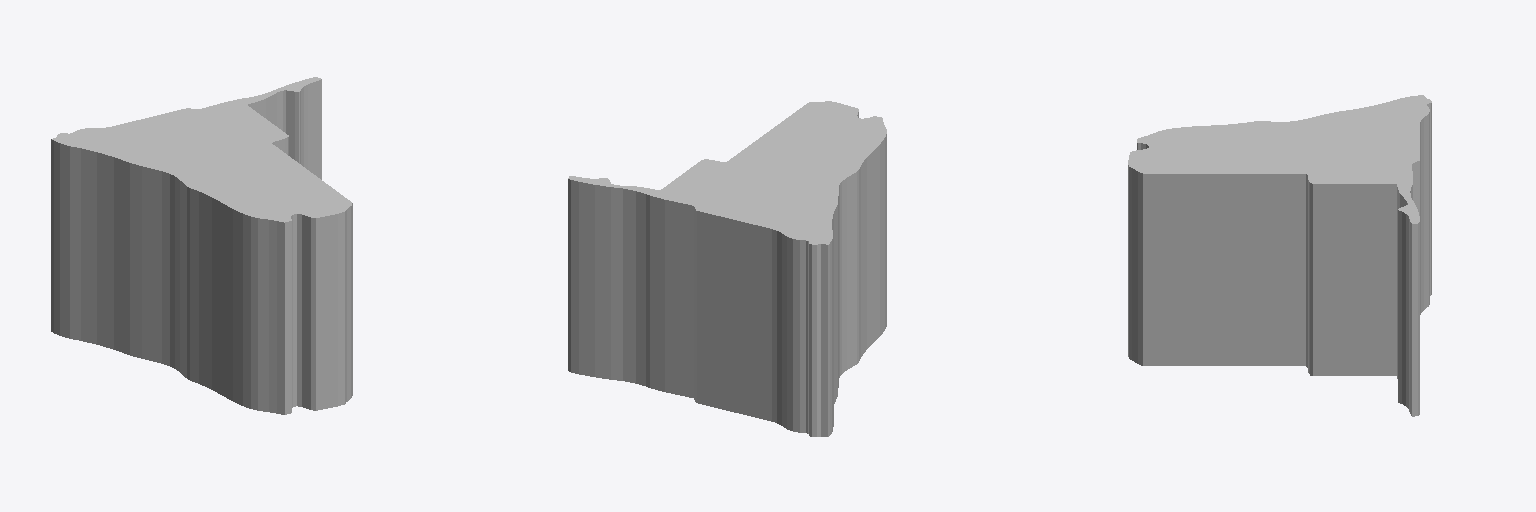
The picture shows the model from 3 angles: view 1: azimuth 30°, elevation 25°; view 2: azimuth 150°, elevation 25°; view 3: azimuth 270°, elevation 25°; orthographic projection.
Parts seen in each view (by area): view 1: NA.002_CUCurve.1884; view 2: NA.002_CUCurve.1884; view 3: NA.002_CUCurve.1884.
Boxes of the visible parts, box(x1,y1,x2,y2) form: NA.002_CUCurve.1884: box(51, 77, 352, 414); NA.002_CUCurve.1884: box(568, 101, 886, 436); NA.002_CUCurve.1884: box(1128, 95, 1431, 416).
Size of the model in its own units: 0.072 by 0.05 by 0.0715.